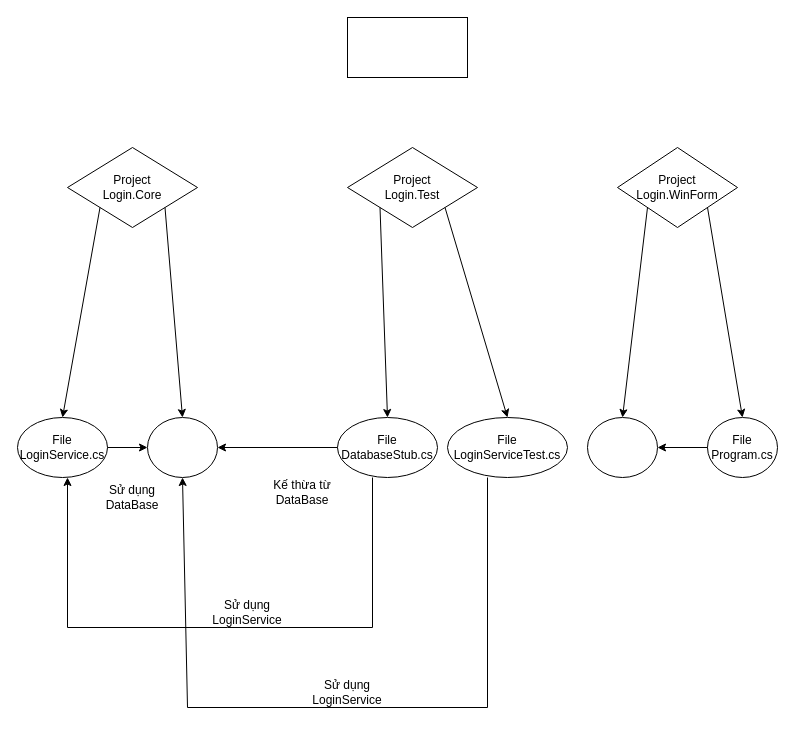
Some shapes in this 795 by 733 pixel diagram are drawn without their labels. Each missing label, with the centre of its shape:
File Database.cs: (x=182, y=447)
File Login.cs: (x=622, y=447)
Solution Login Manager: (x=407, y=47)
